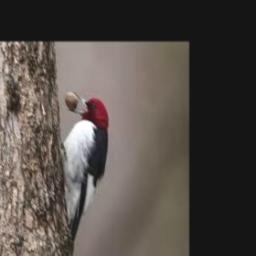Woodpecker: (61, 91, 109, 256)
